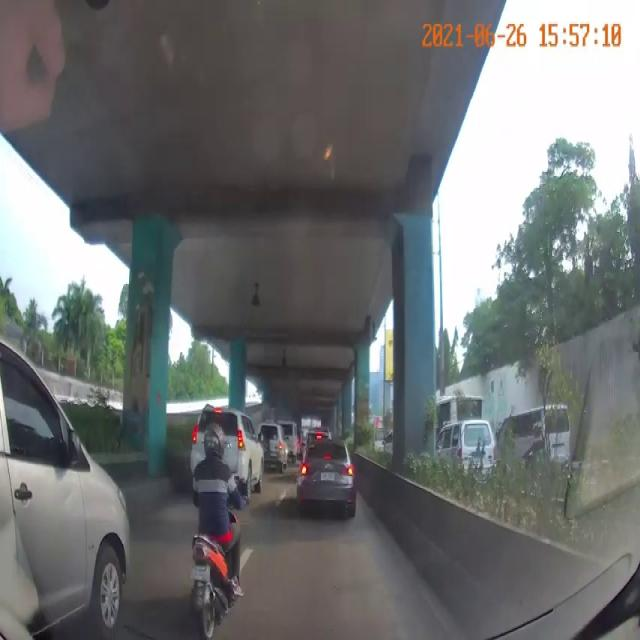car: (0, 340, 130, 630), (191, 402, 266, 495), (498, 412, 576, 486), (300, 431, 358, 524), (438, 425, 498, 493)
motorcycle: (194, 423, 247, 633)
